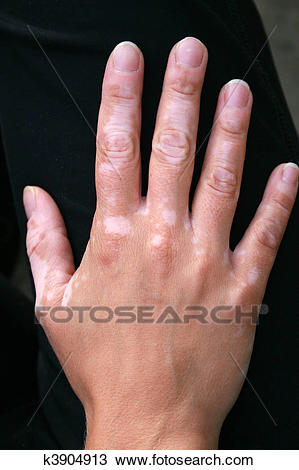Diseased: (31, 69, 280, 295)
